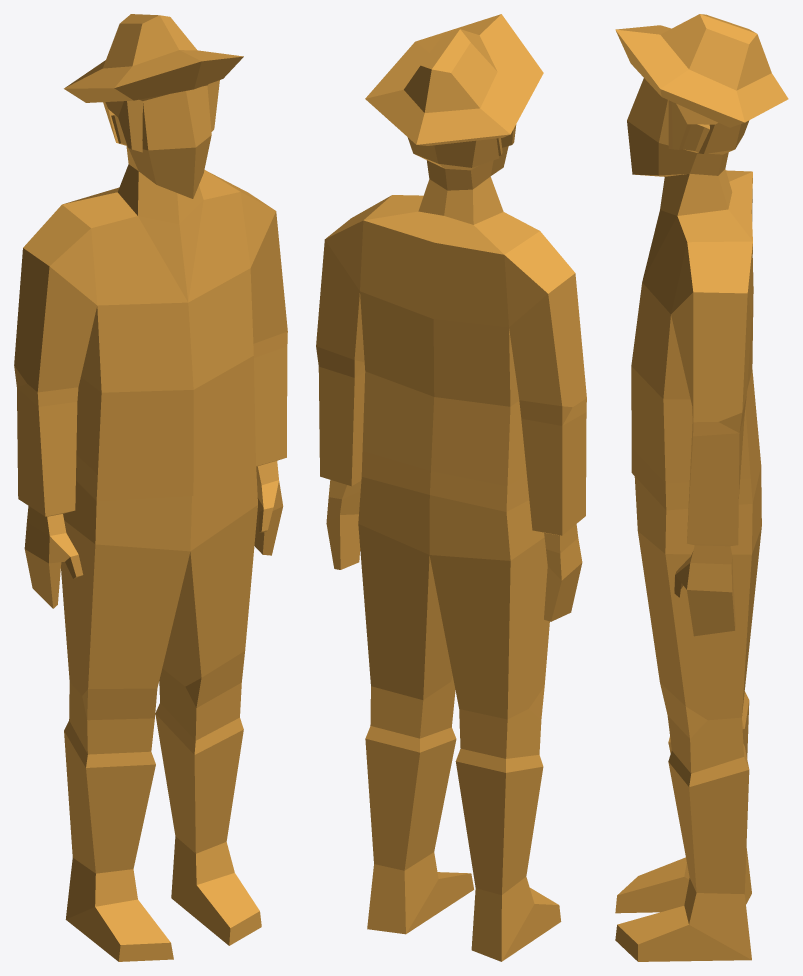
The model's file is man-lad-rival.fbx.
The picture shows the model from 3 angles, left to right: view 1: azimuth 30°, elevation 25°; view 2: azimuth 150°, elevation 25°; view 3: azimuth 270°, elevation 25°; orthographic projection.
Visible parts, largest first — view 1: man-lad-rival; view 2: man-lad-rival; view 3: man-lad-rival.
Part boxes in pixels (x1,y1,x2,y2): man-lad-rival: [14, 14, 287, 961]; man-lad-rival: [316, 14, 586, 961]; man-lad-rival: [615, 14, 788, 961].
Bounding box in the file's own units: 0.5438 × 1.88 × 0.3245.
